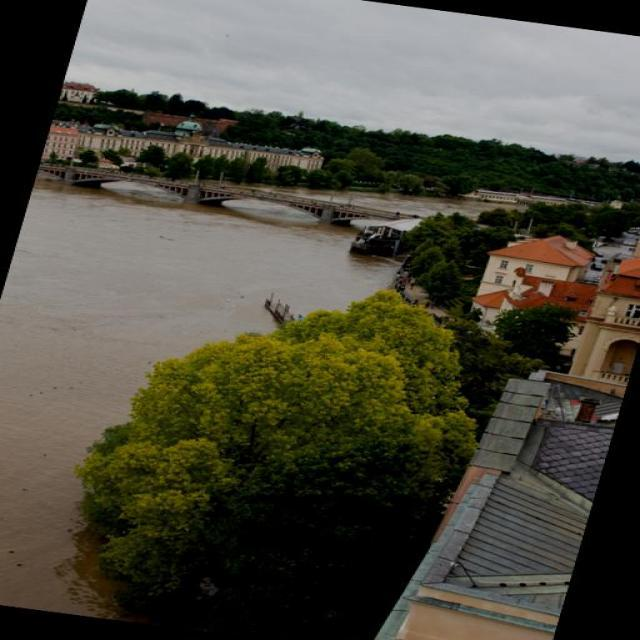flood: (0, 141, 434, 635)
